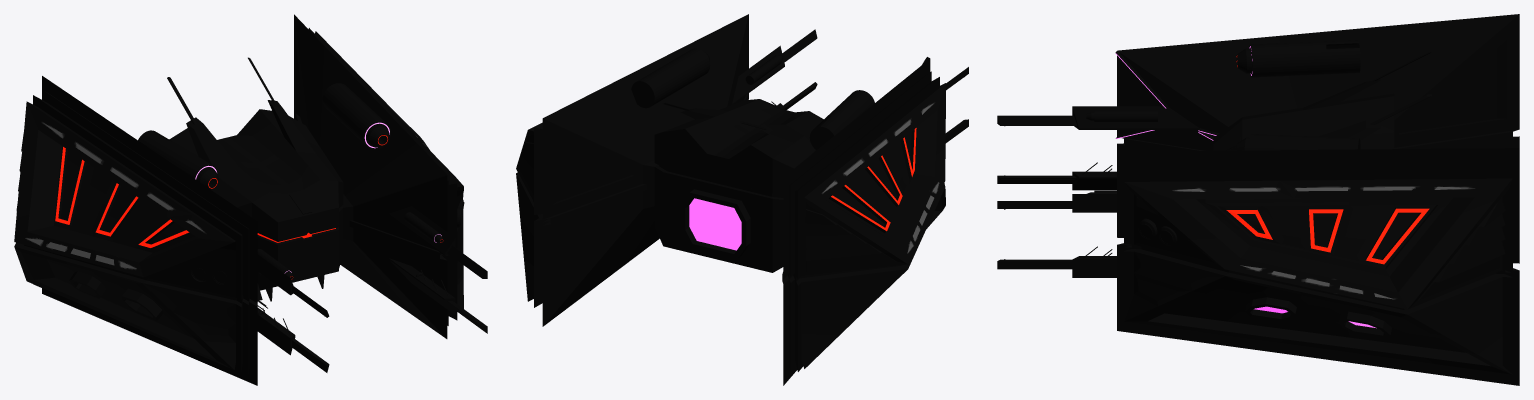
Rendered from StarshipSharp.fbx.
The picture shows the model from 3 angles, left to right: view 1: azimuth 30°, elevation 25°; view 2: azimuth 150°, elevation 25°; view 3: azimuth 270°, elevation 25°; orthographic projection. The views are drawn at different scales.
Visible parts, largest first — view 1: Bake; view 2: Bake; view 3: Bake.
Boxes of the visible parts, bbox=[...] form: Bake: bbox=[14, 14, 487, 385]; Bake: bbox=[516, 14, 968, 385]; Bake: bbox=[997, 14, 1519, 385].
Bounding box in the file's own units: 952 × 499 × 963.
Materials: 1 (1 with a texture image).
